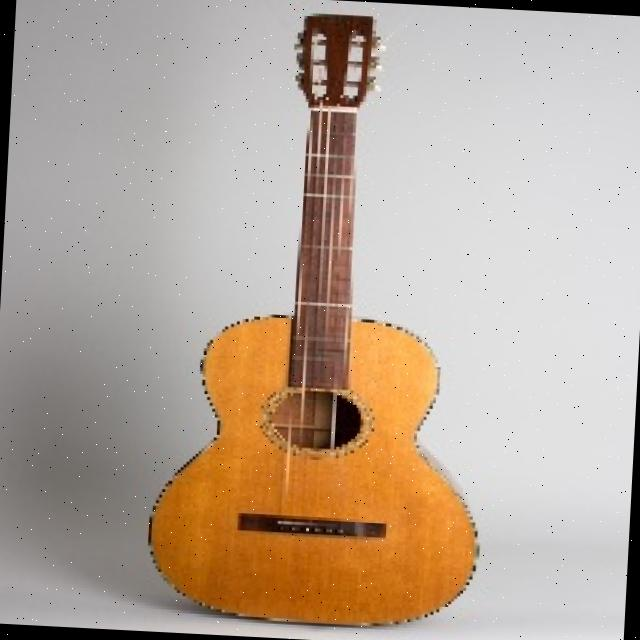guitar: (141, 2, 508, 640)
